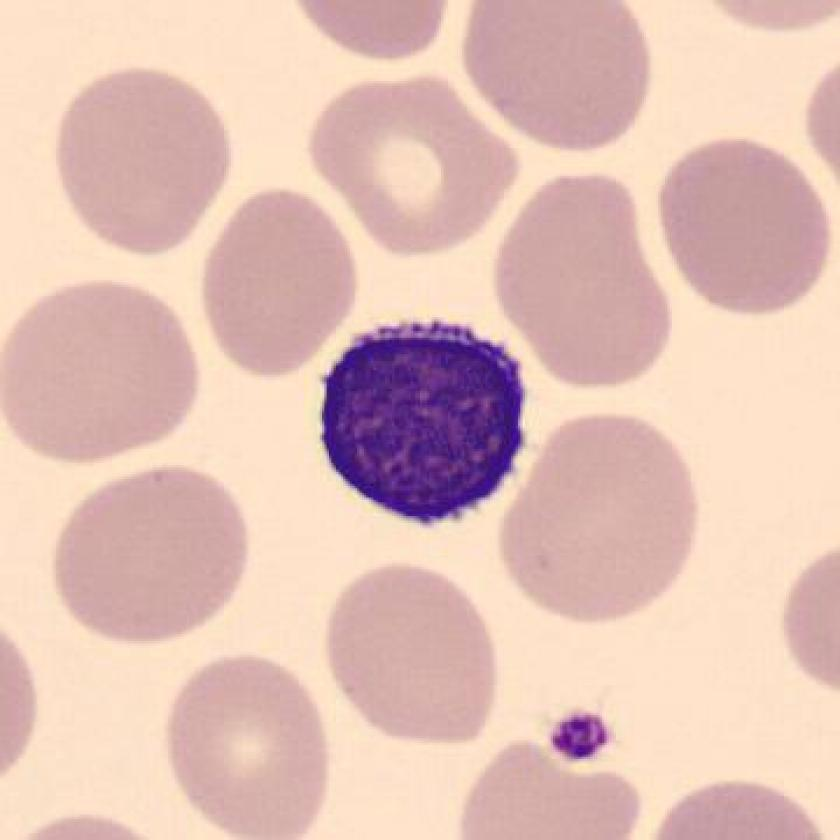lymphocyte: (295, 309, 538, 540)
